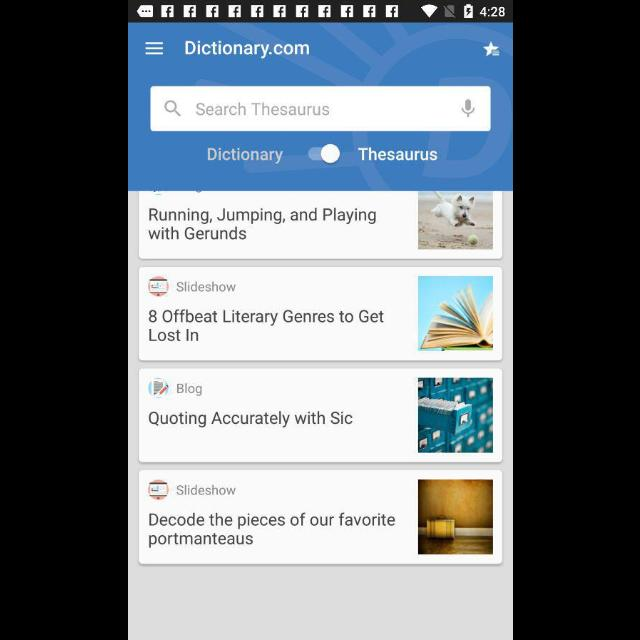icon: (482, 42, 500, 58), (144, 42, 164, 56), (163, 100, 180, 116), (461, 100, 473, 118)
image: (418, 480, 492, 554), (418, 379, 492, 453), (418, 277, 492, 351), (418, 192, 492, 250), (148, 276, 168, 298), (148, 480, 168, 500), (148, 378, 168, 398)
input: (150, 86, 490, 132)
panel: (138, 267, 502, 361), (138, 470, 502, 564), (138, 369, 502, 463)
switch: (307, 144, 339, 164)
text: (148, 512, 394, 548), (148, 309, 384, 341), (148, 208, 376, 240), (148, 412, 352, 428), (185, 40, 309, 60), (195, 102, 328, 116), (208, 148, 282, 166), (358, 147, 437, 161), (177, 484, 236, 496), (176, 282, 234, 292), (176, 384, 202, 396)
uppertaskbar: (128, 1, 512, 23)
